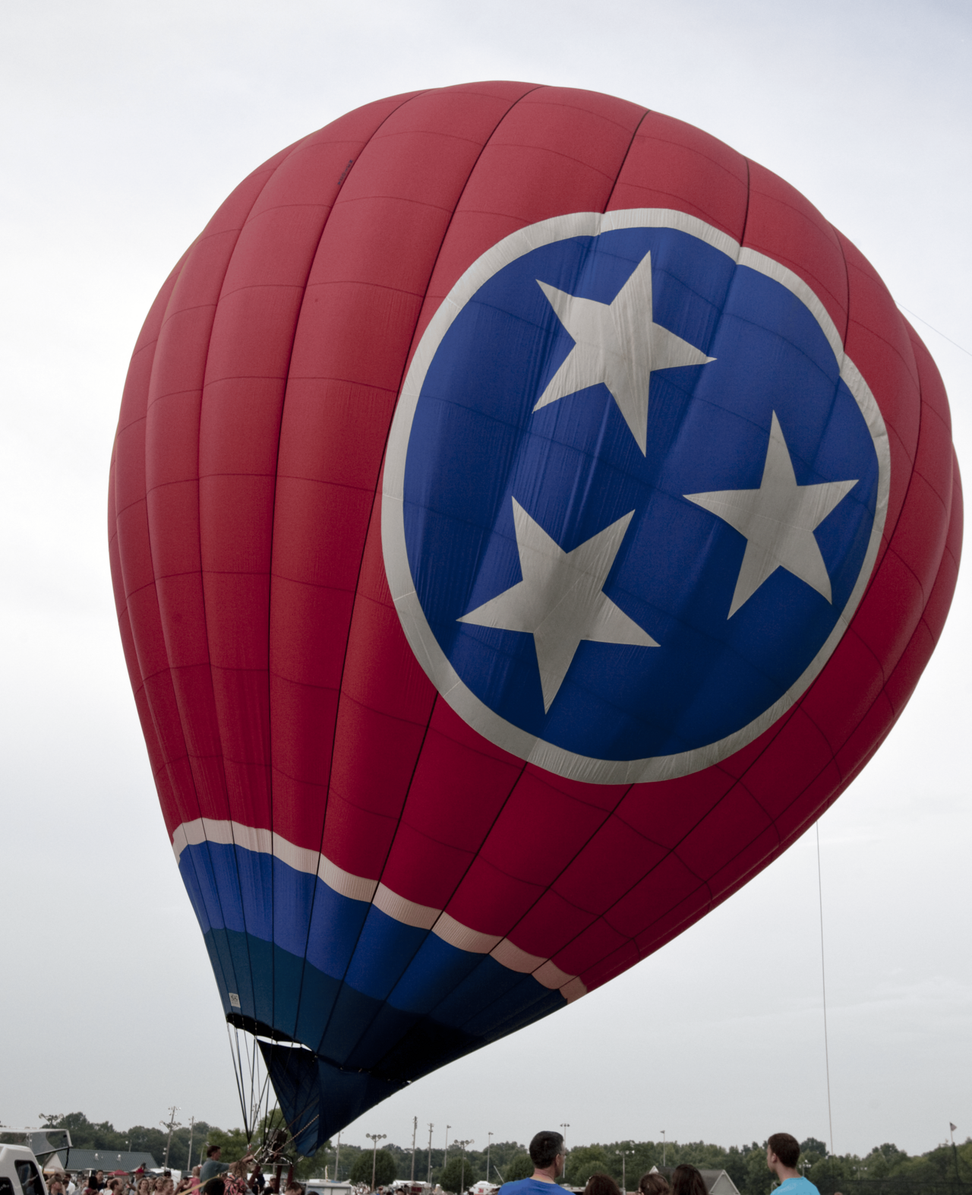balloon: (105, 78, 963, 1159)
